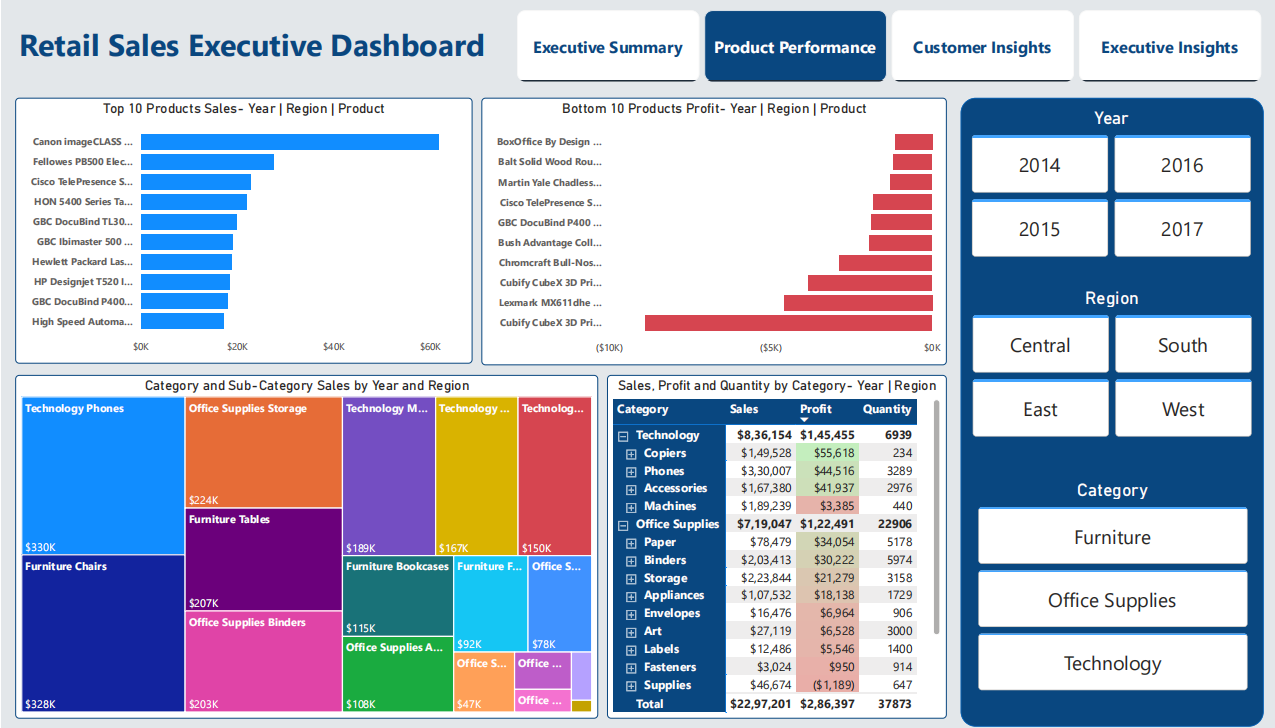

Layout of this report page (visuals, bound fields, positions):
{"tool":"powerbi","page":{"name":"Product Performance","canvas":[1280,720],"ordinal":1},"visuals":[{"type":"barChart","title":"Top 10 Products by Sales","fields":{"Category":["Products.Product Name"],"Y":["Orders.Total Sales"]},"box":[53.5,54.9,585.9,329.3],"z":0},{"type":"barChart","title":"Bottom 10 Products by Profit","fields":{"Y":["Orders.Total Profit"],"Category":["Products.Product Name"]},"box":[639.5,75.5,585.9,329.3],"z":1000},{"type":"treemap","title":"Sales by Category & Sub-Category","fields":{"Group":["Products.Category","Products.Sub-Category"],"Values":["Orders.Total Sales"]},"box":[16.5,389.7,605.1,329.3],"z":2000},{"type":"pivotTable","fields":{"Rows":["Products.Category","Products.Sub-Category","Products.Product Name"],"Values":["Orders.Total Sales","Orders.Total Profit","Sum(Orders.Quantity)"]},"box":[639.5,410.3,443.2,138.6],"z":3000},{"type":"listSlicer","fields":{"Values":["Regions.Region"]},"box":[879.6,555.3,107,164.7],"z":4000},{"type":"listSlicer","fields":{"Values":["Products.Category"]},"box":[639.5,554.4,149.6,164.7],"z":5000},{"type":"listSlicer","fields":{"Values":["Date Table.Year"]},"box":[1082.7,555.3,116.6,164.7],"z":6000},{"type":"pageNavigator","box":[492.3,0,787.7,49.4],"z":6001}]}

Visuals, with their boxes in screenshot pixels (x1, y1, x2, y2), scaled from the page's 1280x720 canvas onto the 1275x728 screenshot:
"Top 10 Products by Sales" barChart: pyautogui.locateOnScreen(53, 56, 637, 388)
"Bottom 10 Products by Profit" barChart: pyautogui.locateOnScreen(637, 76, 1221, 409)
"Sales by Category & Sub-Category" treemap: pyautogui.locateOnScreen(16, 394, 619, 727)
pivotTable - Products.Category x Products.Sub-Category: pyautogui.locateOnScreen(637, 415, 1078, 555)
listSlicer - Regions.Region: pyautogui.locateOnScreen(876, 561, 983, 727)
listSlicer - Products.Category: pyautogui.locateOnScreen(637, 561, 786, 727)
listSlicer - Date Table.Year: pyautogui.locateOnScreen(1078, 561, 1195, 727)
pageNavigator: pyautogui.locateOnScreen(490, 0, 1274, 50)
